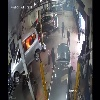fire: (21, 32, 37, 50)
